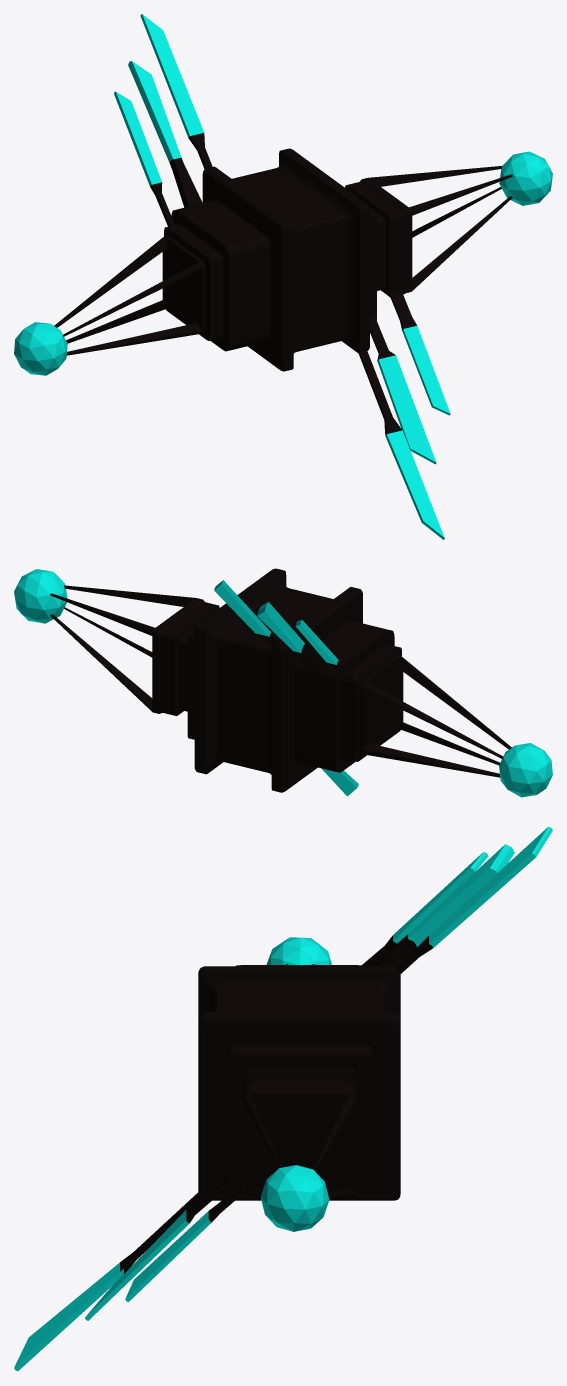
File: Gate4.fbx
3 views of the same model, one above another, from view 1: azimuth 30°, elevation 25°; view 2: azimuth 150°, elevation 25°; view 3: azimuth 270°, elevation 25° (orthographic). The views are drawn at different scales.
Visible parts, largest first — view 1: Cube; view 2: Cube; view 3: Cube.
Boxes of the visible parts, x1=… form: Cube: x1=14, y1=14, x2=552, y2=539; Cube: x1=14, y1=568, x2=552, y2=797; Cube: x1=14, y1=826, x2=552, y2=1371.
Bounding box in the file's own units: 7.55 × 5.35 × 5.33.
